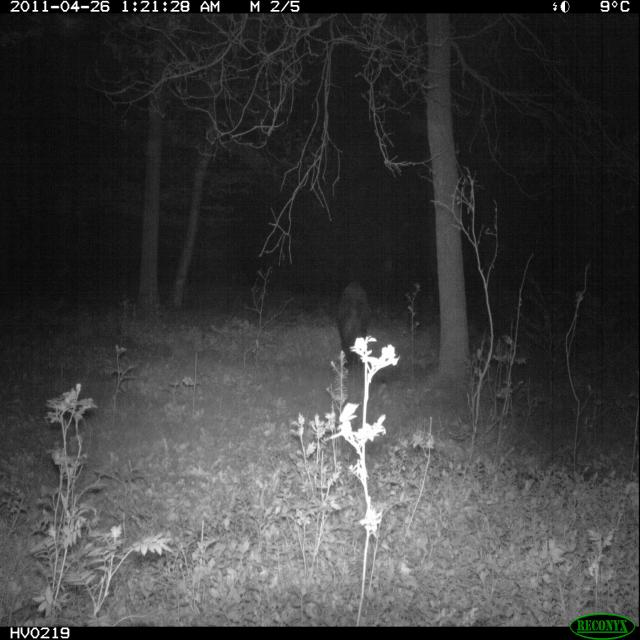boar: (318, 253, 390, 390)
